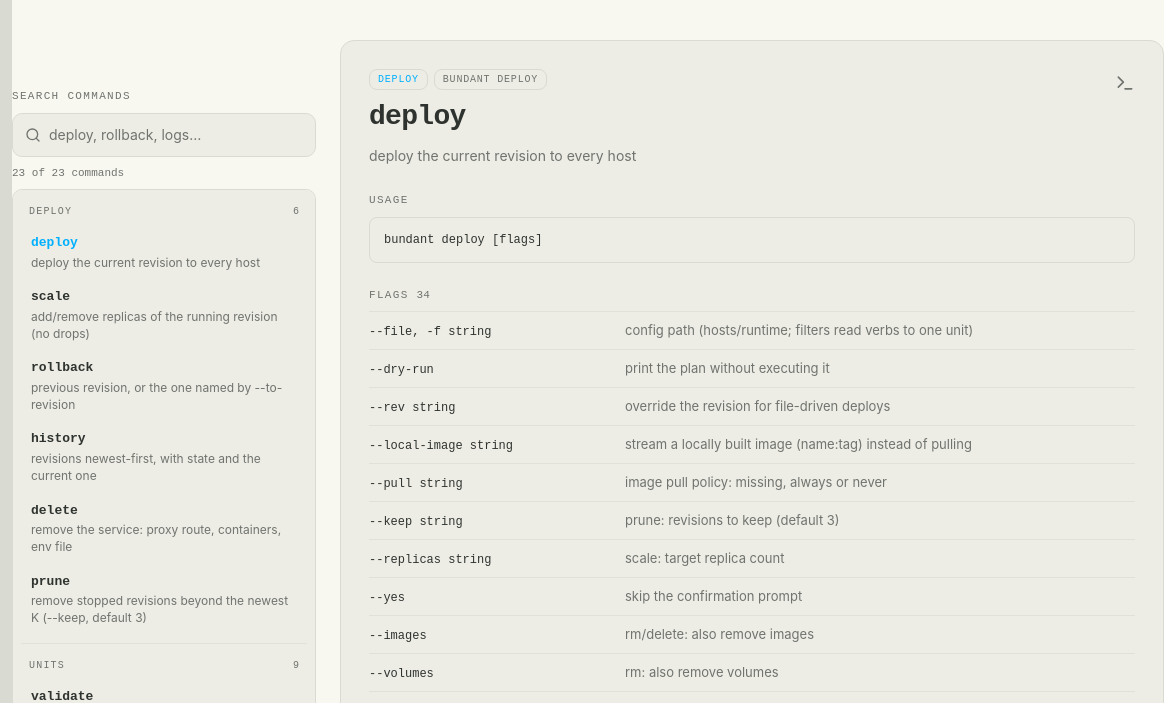
command explorer selection › clicking an option selects it
The image size is (1164, 703).
Check: the element named "deploy command reference" shows "Deploy", box [378,74,419,85]
Click the option that starts with "rollback" at (164, 386), box [21,350,307,422]
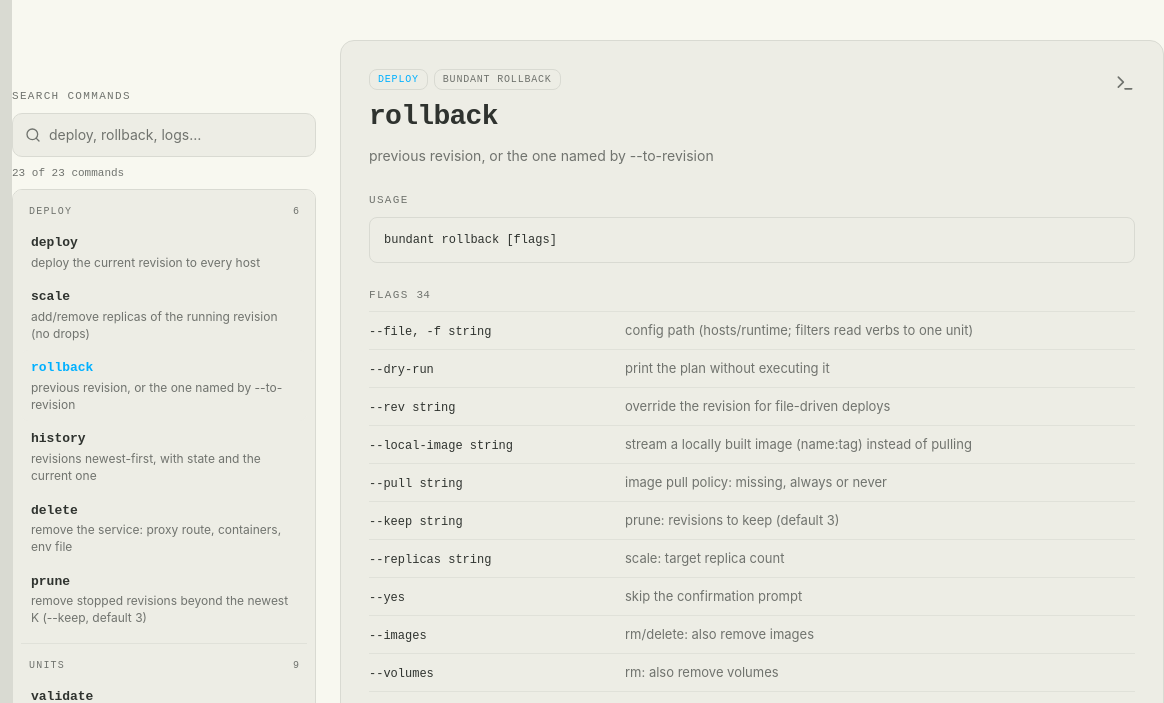
Check: the heading "rollback" is shown, box [369,101,498,132]
